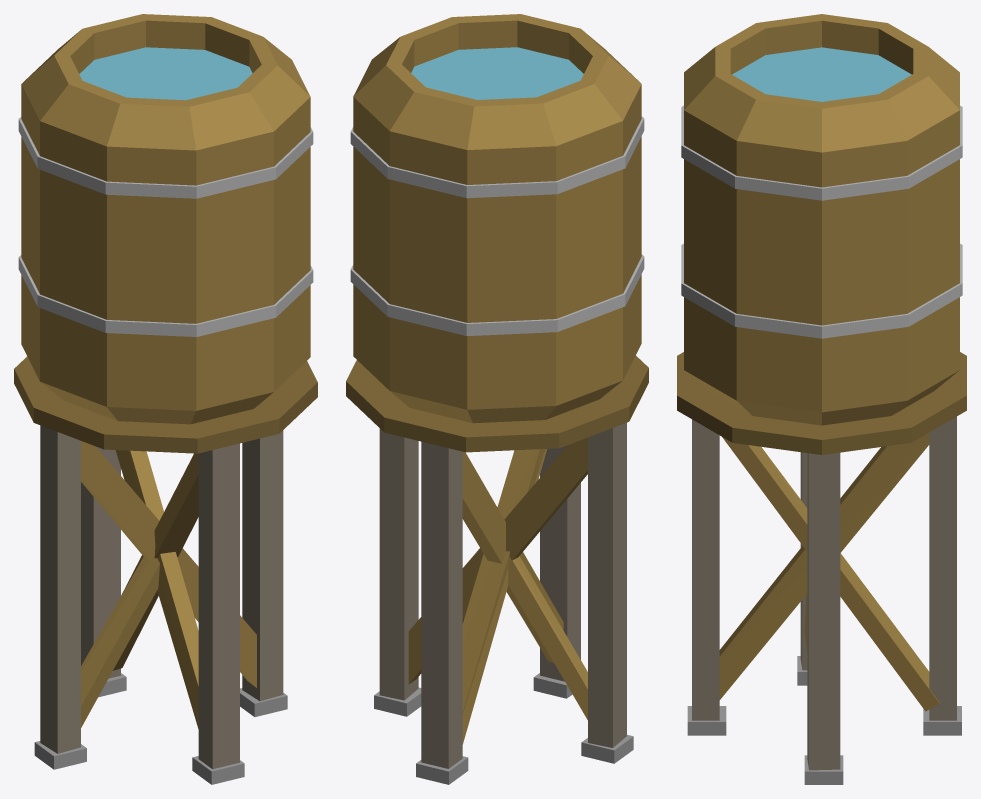
The model's file is water tower.fbx.
3 renders of one model, left to right at view 1: azimuth 30°, elevation 25°; view 2: azimuth 150°, elevation 25°; view 3: azimuth 270°, elevation 25°, orthographic.
Visible parts, largest first — view 1: Cube_10; view 2: Cube_10; view 3: Cube_10.
Part boxes in pixels (x1,y1,x2,y2): Cube_10: (14,14,317,784); Cube_10: (346,14,648,784); Cube_10: (677,14,966,784).
Bounding box in the file's own units: 277 × 670 × 263.
